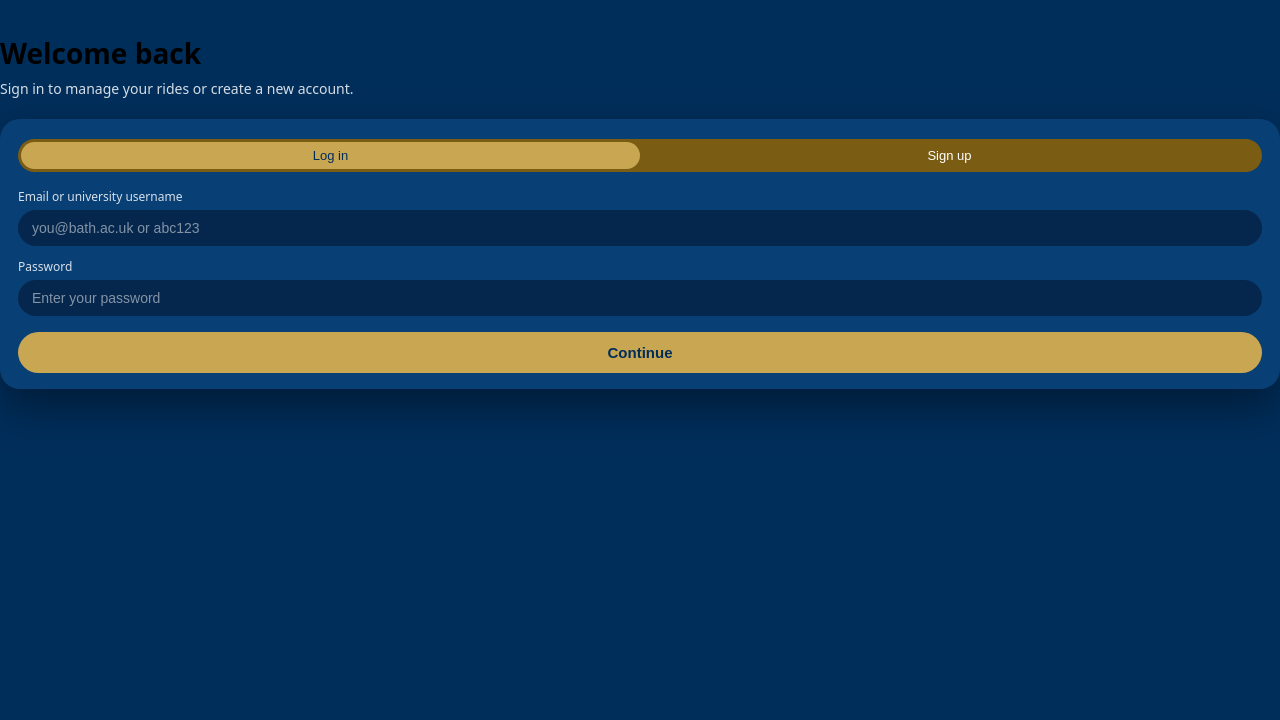
Test: LoginPage Component › handles successful standard signup
The image size is (1280, 720).
Note: Switch to signup
Click the button "Sign up": [950, 156] box [640,142,1259,169]
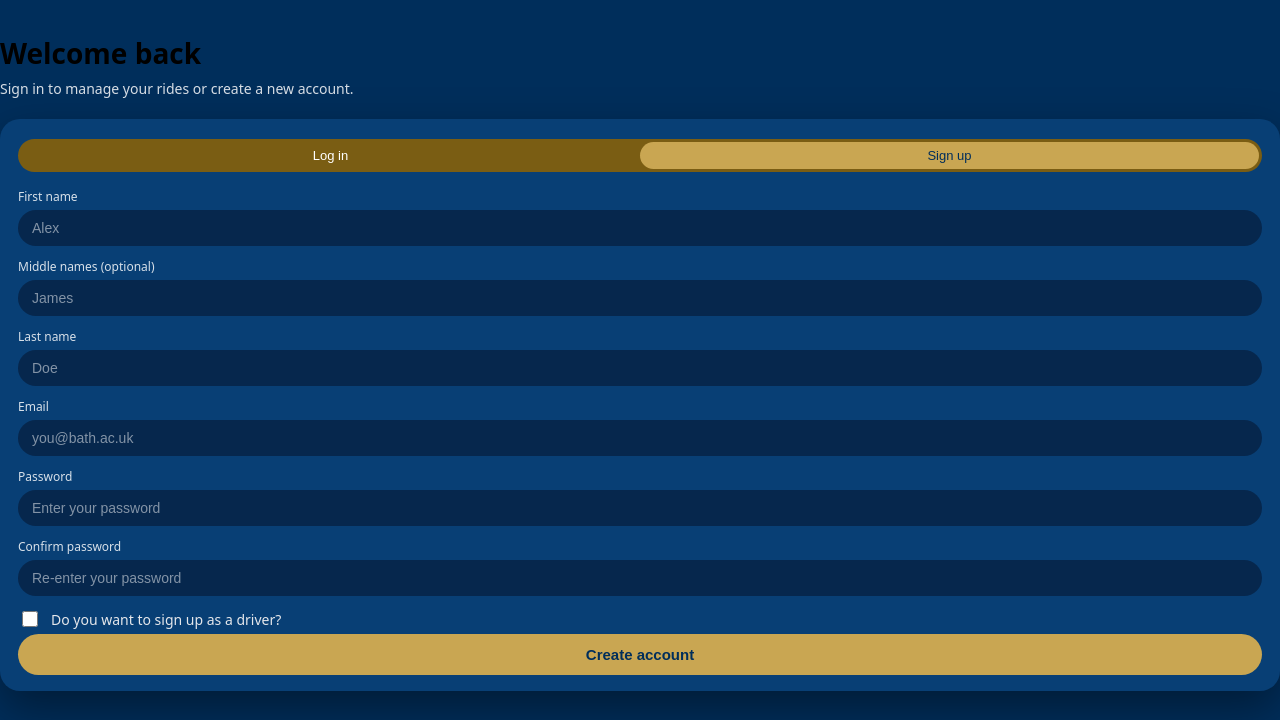
In the field labelled "First name": [640, 228] box [18,210,1262,246], type "Jane"
In the field labelled "Last name": [640, 368] box [18,350,1262,386], type "Smith"
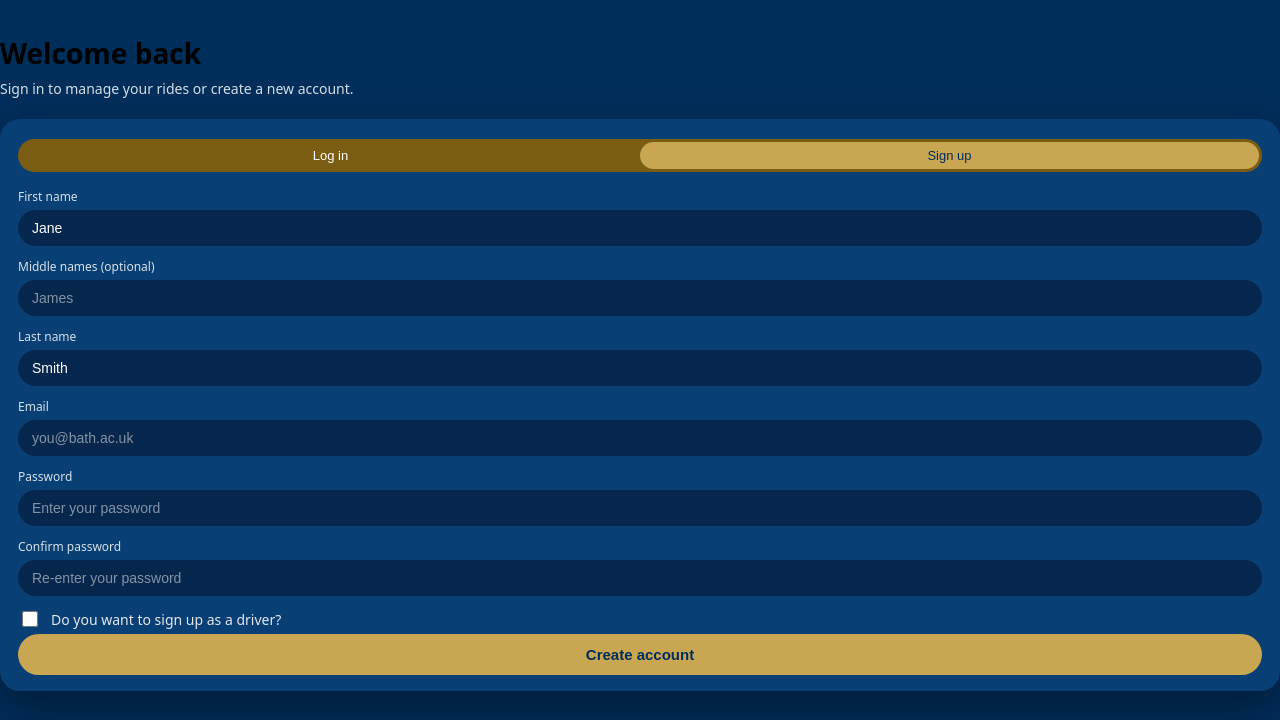
Note: Fixed: Label changes to just 'Email' in signup mode
In the field labelled "Email": [640, 438] box [18,420,1262,456], type "jane@bath.ac.uk"
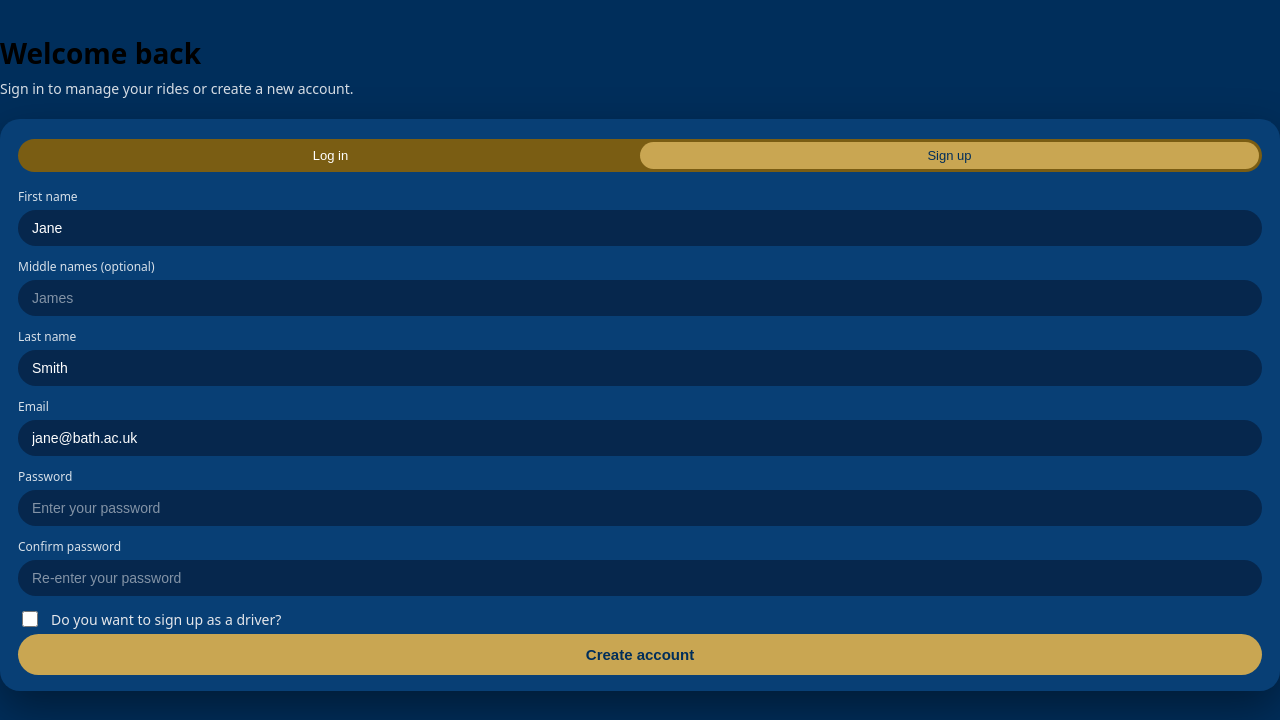
In the password field labelled "Password": [640, 508] box [18,490,1262,526], type "pass123"
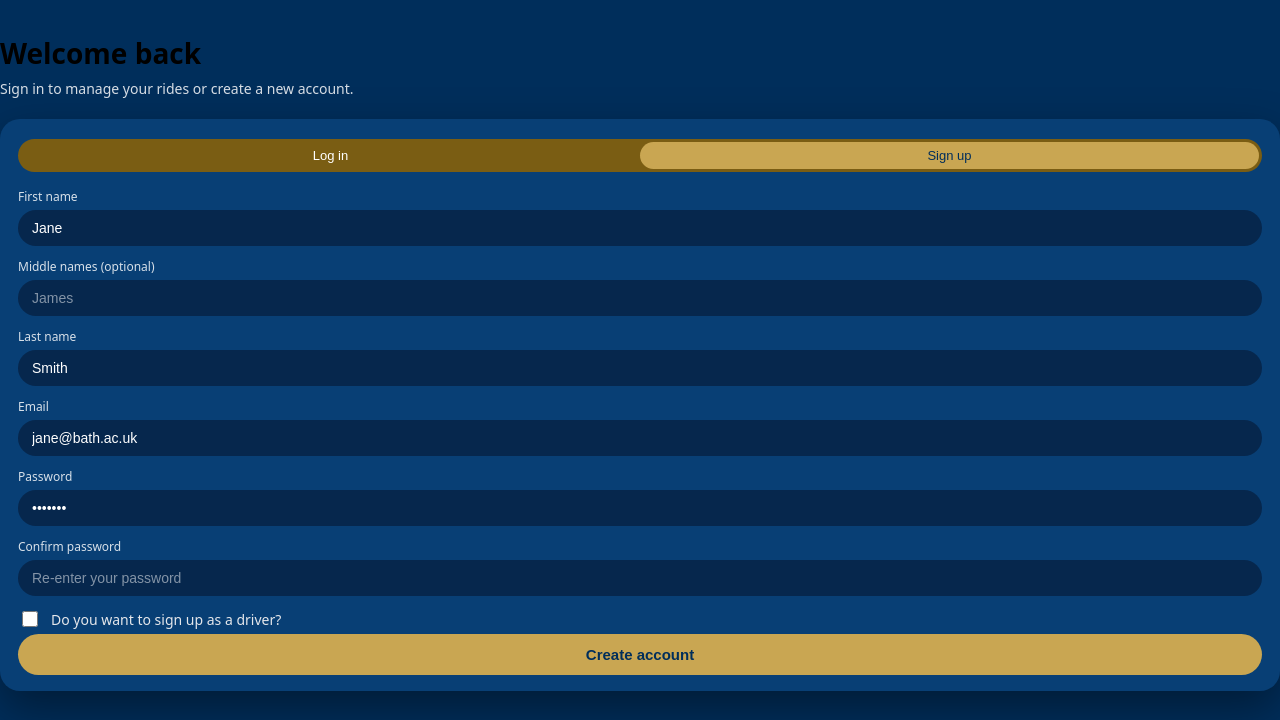
In the password field labelled "Confirm password": [640, 578] box [18,560,1262,596], type "pass123"
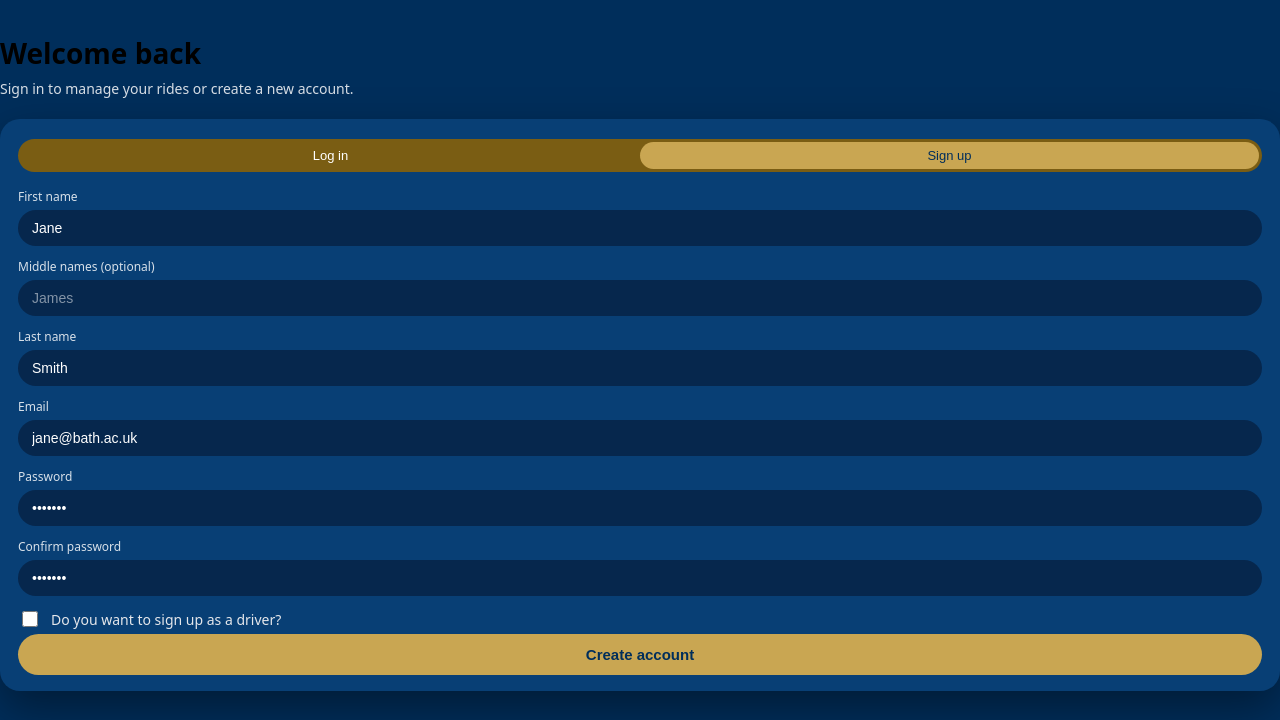
Click the button "Create account": [640, 654] box [18,634,1262,675]
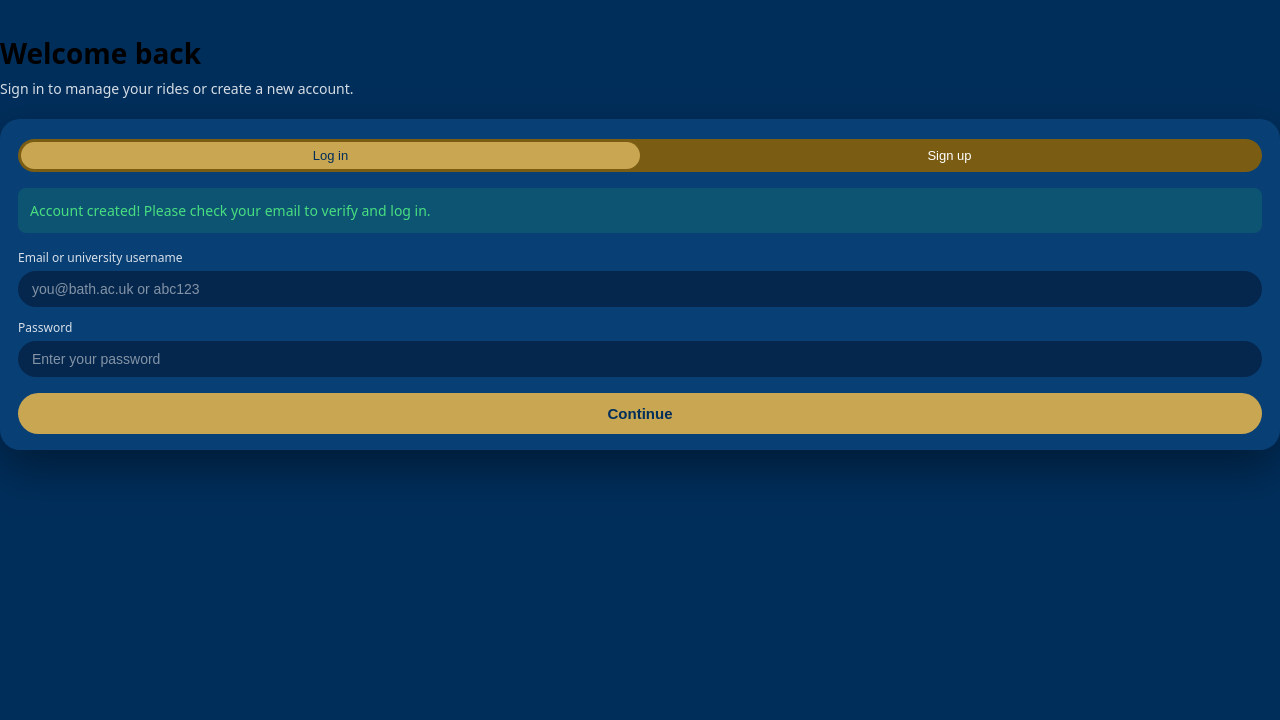
Now the text "Account created! Please check your email to verify and log in." is shown, box [18,188,1262,233]
Now the button "Continue" is shown, box [18,393,1262,434]
